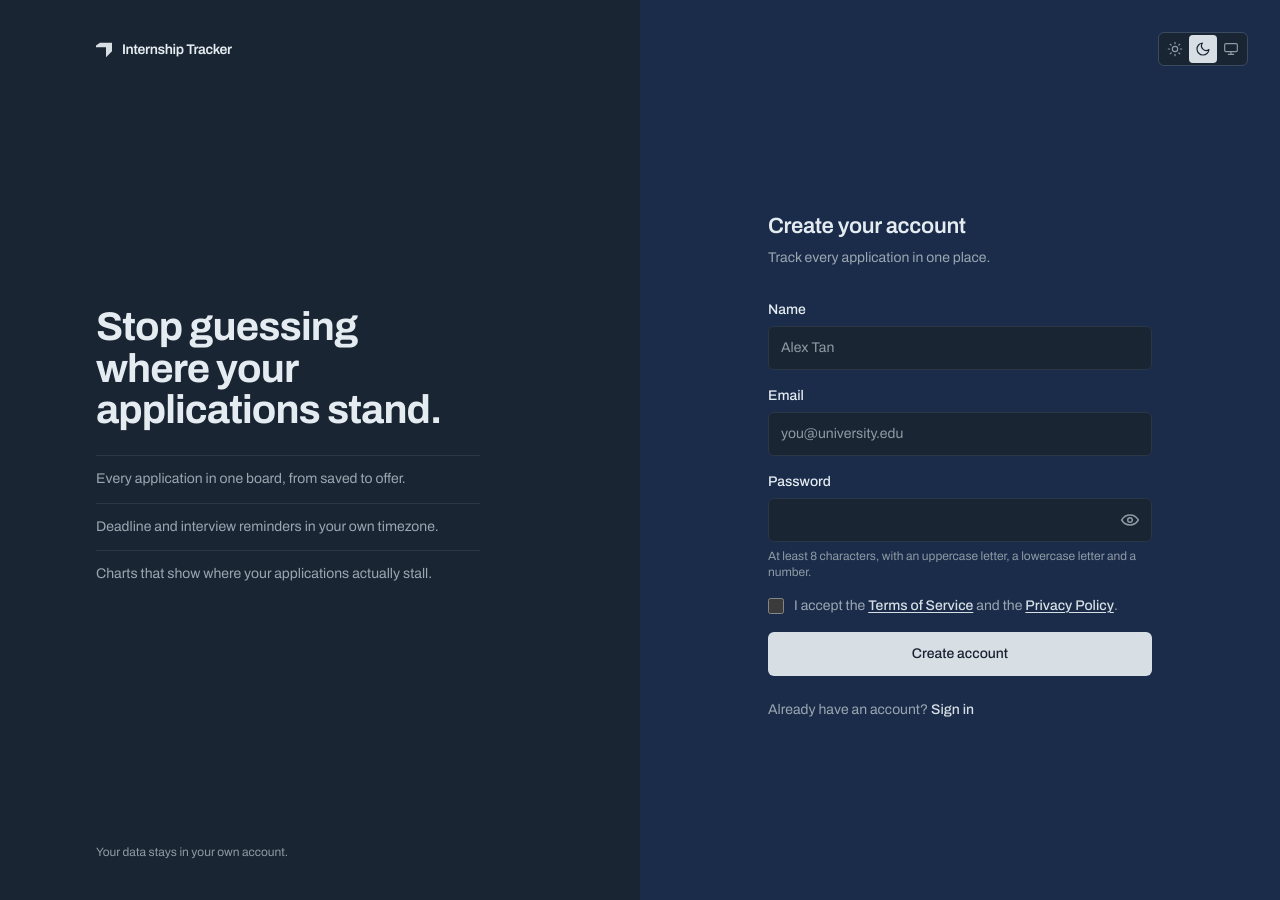
Test: RegisterForm › enforces the same password rules the server does
This screenshot has width=1280, height=900.
Check: the button "Create account" is shown, box [768,632,1152,676]
Type "Ada Lovelace" into the field labelled "Name". click: (960, 348)
box: [768,326,1152,370]
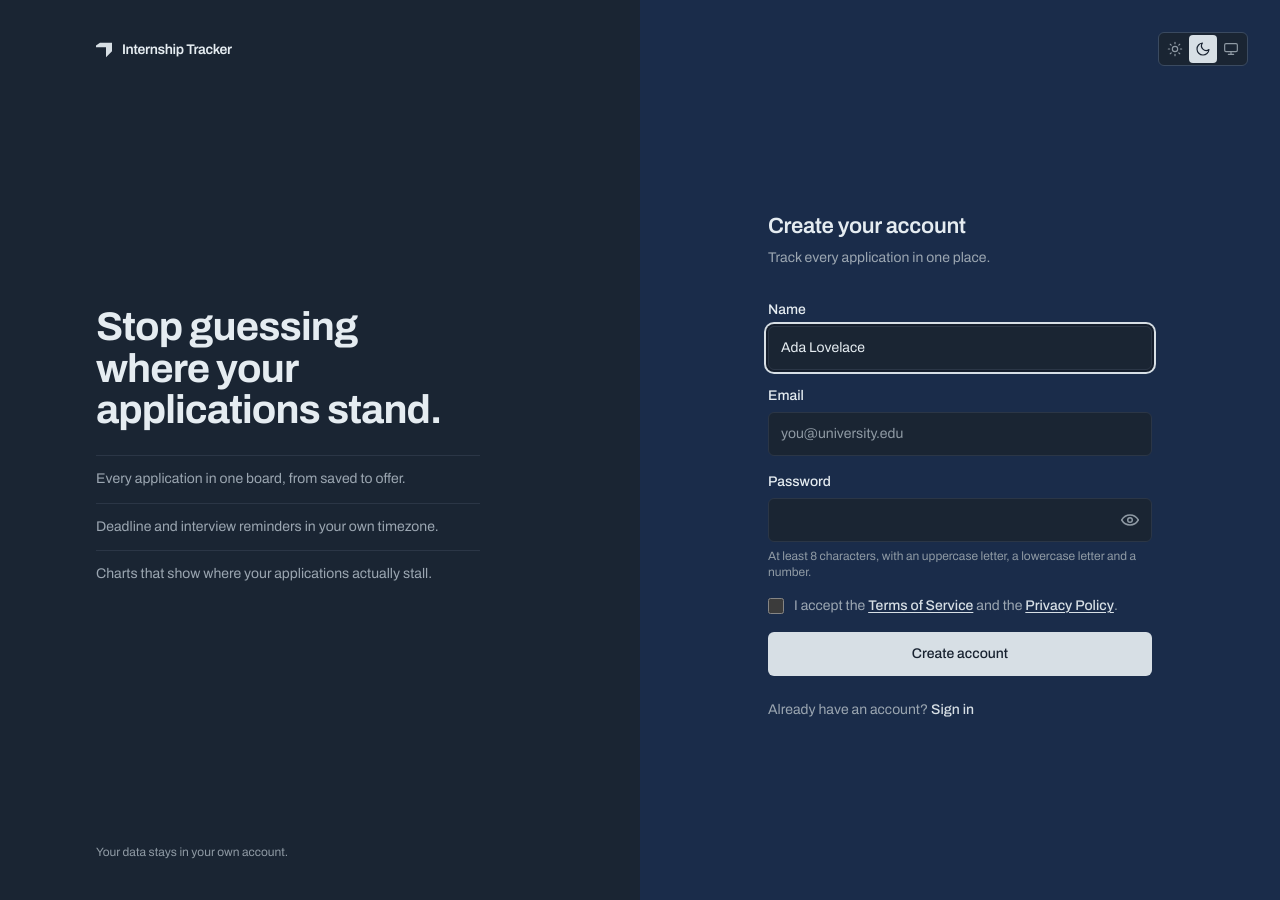
Type "ada@example.test" into the field labelled "Email". click: (960, 434)
box: [768,412,1152,456]
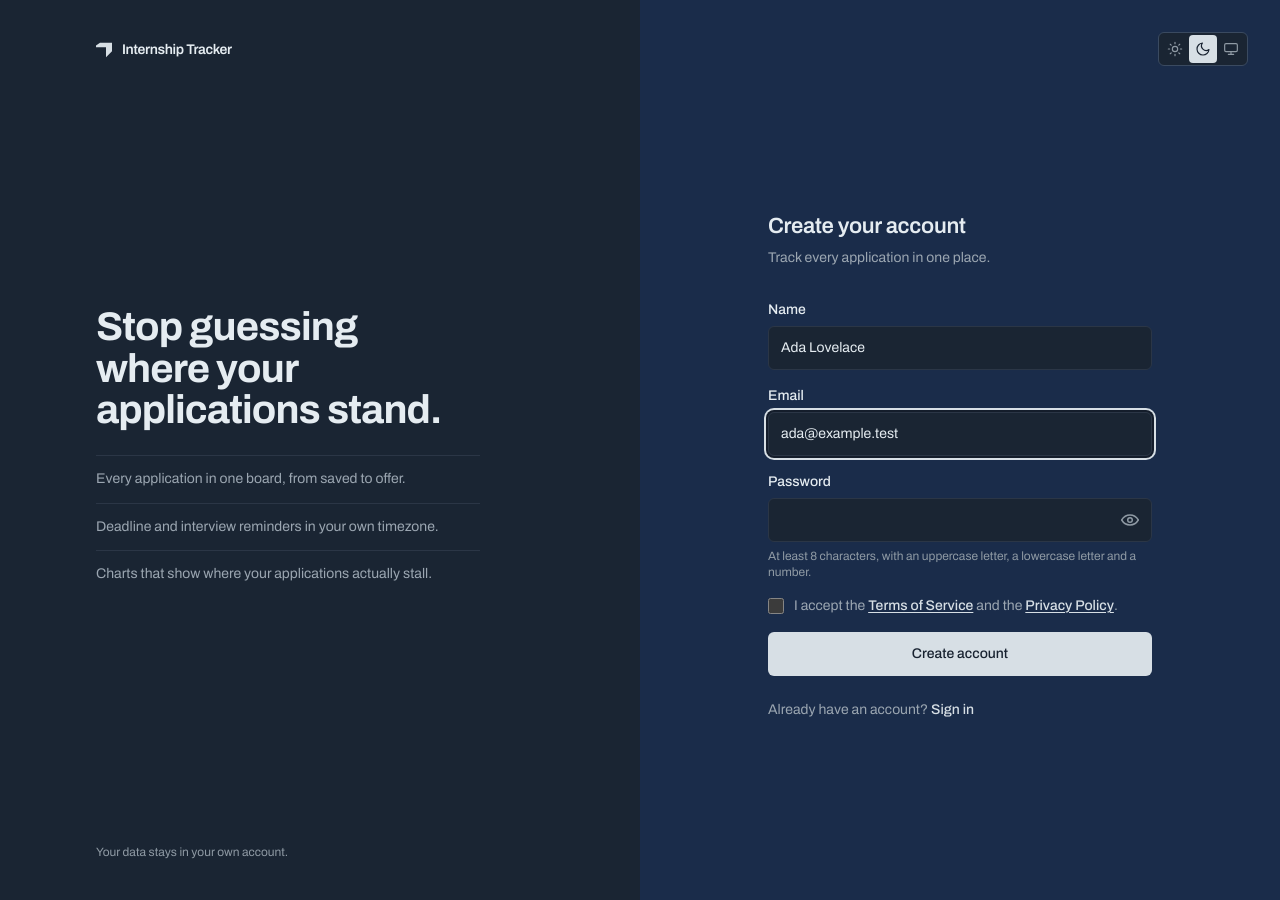
Type "password" into the password field labelled "Password". click: (960, 520)
box: [768,498,1152,542]
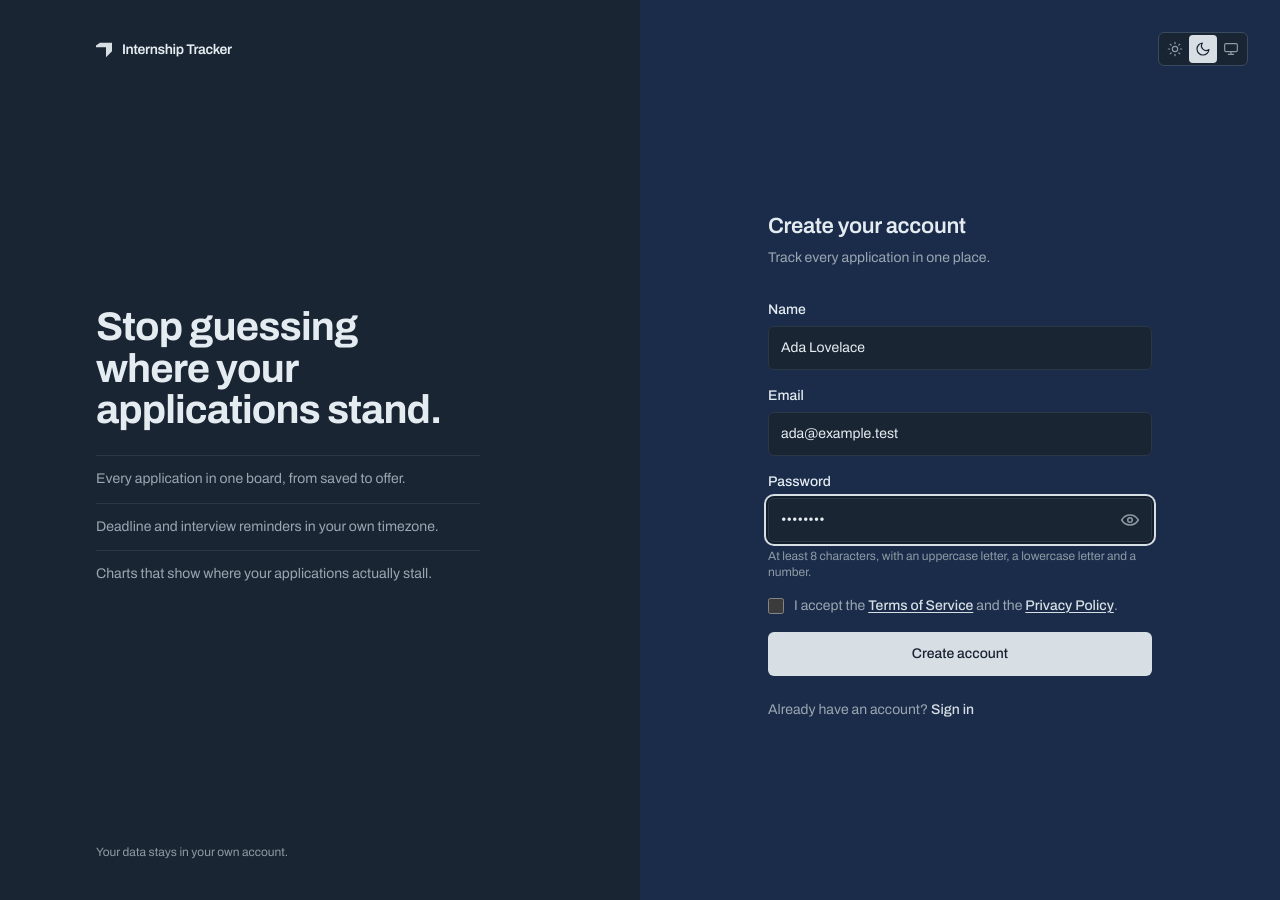
Click the checkbox. click: (776, 606)
box: [768,598,784,614]
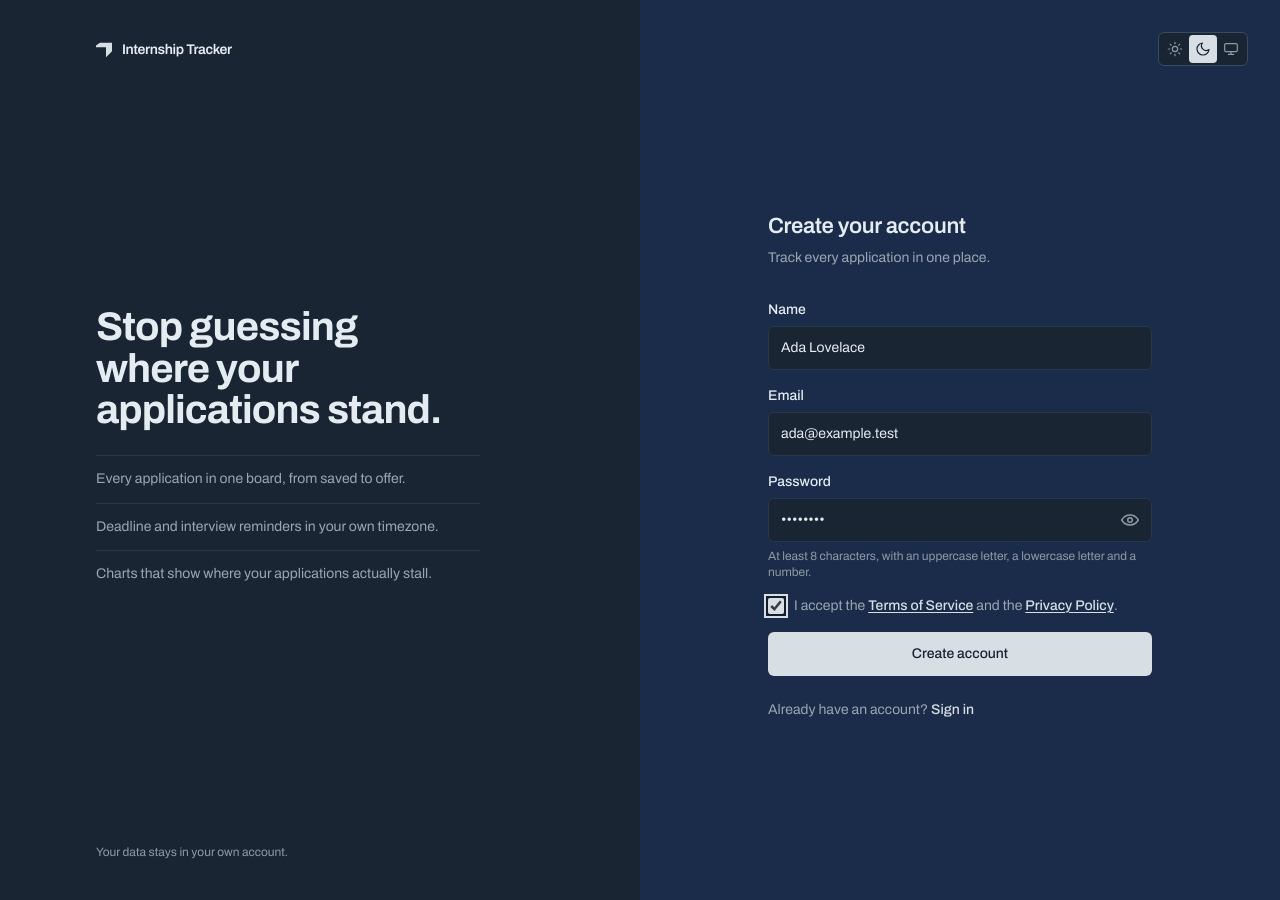
Click the button "Create account". click: (960, 654)
box: [768,632,1152,676]
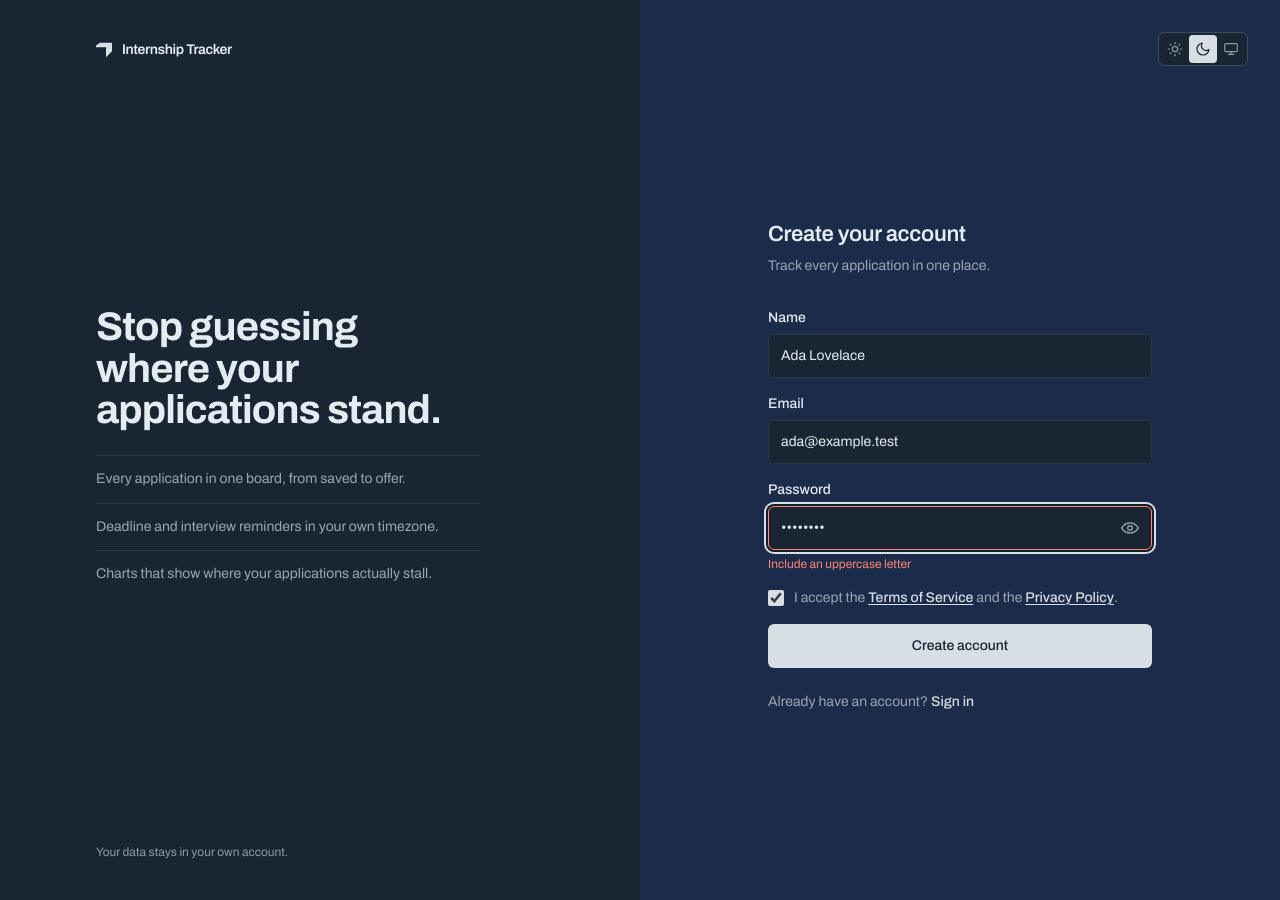
Check: the text "Include an uppercase letter" is shown, box [768,557,911,571]
